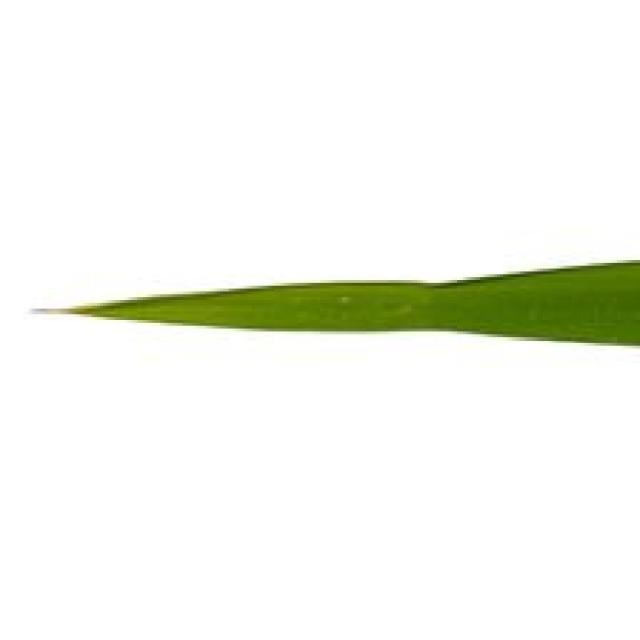Rice___Healthy_Rice_Plant: (27, 258, 637, 352)
